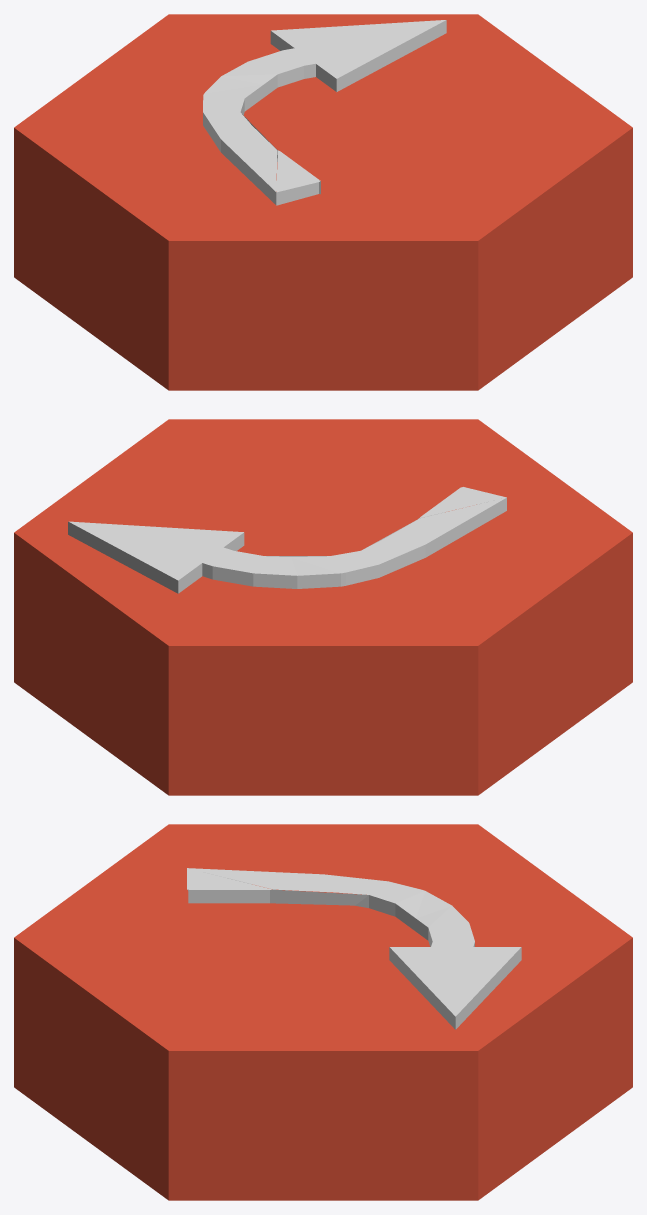
3 views of the same model, one above another, from view 1: azimuth 30°, elevation 25°; view 2: azimuth 150°, elevation 25°; view 3: azimuth 270°, elevation 25° (orthographic).
Parts seen in each view (by area): view 1: Circle.005, MP_Brick_Terrain.008; view 2: Circle.005, MP_Brick_Terrain.008; view 3: Circle.005, MP_Brick_Terrain.008.
Part boxes in pixels (<box>): Circle.005: <box>14,14,632,390</box>; MP_Brick_Terrain.008: <box>203,20,446,205</box>; Circle.005: <box>14,419,632,795</box>; MP_Brick_Terrain.008: <box>68,487,506,593</box>; Circle.005: <box>14,824,632,1200</box>; MP_Brick_Terrain.008: <box>187,868,521,1029</box>.
Size of the model in its own units: 1956 by 656 by 2258.
